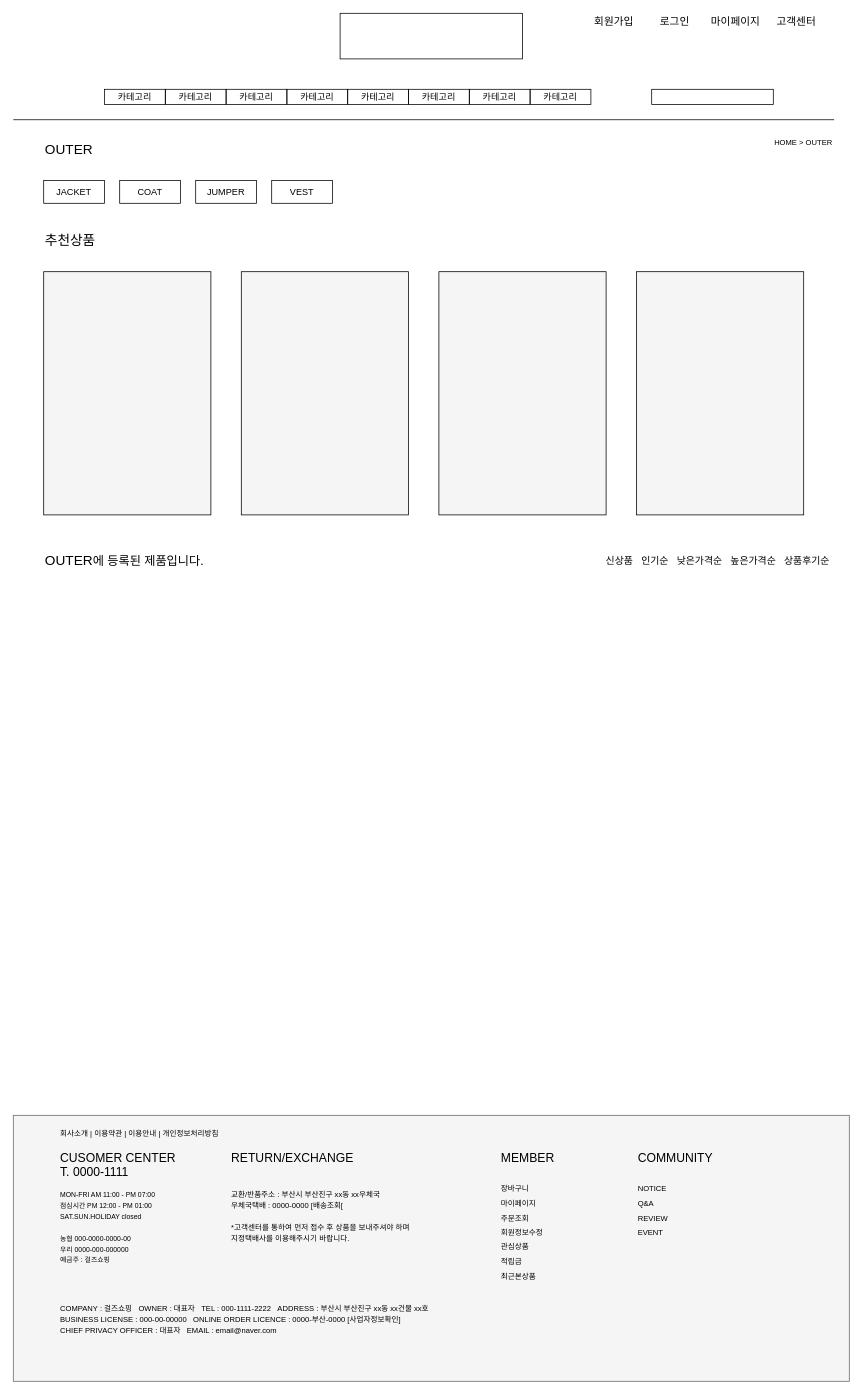
Some shapes in this 863 by 1395 pixel diagram are drawn without their labels. Each missing label, with the centre of its shape:
LOGO: point 430,36
검색창: point 712,96
